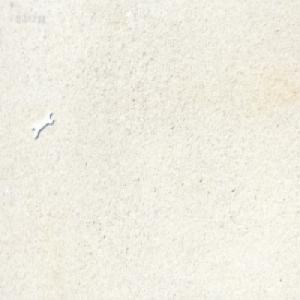Wrench: (31, 108, 54, 139)
